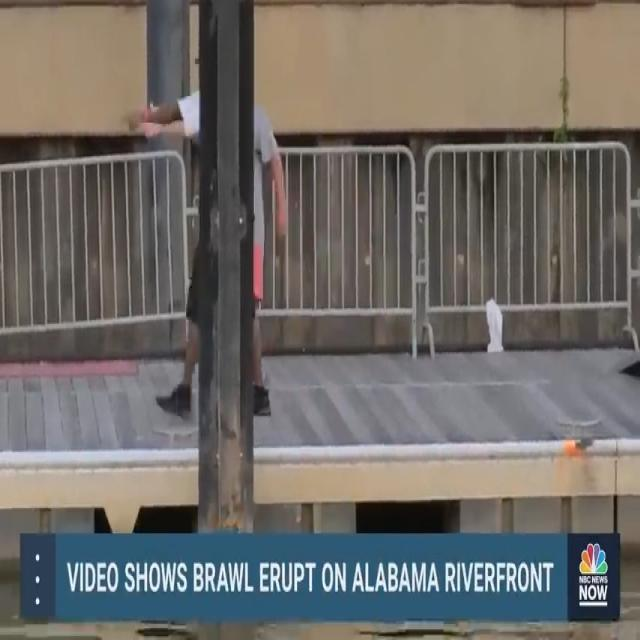non-fight: (120, 52, 288, 423)
